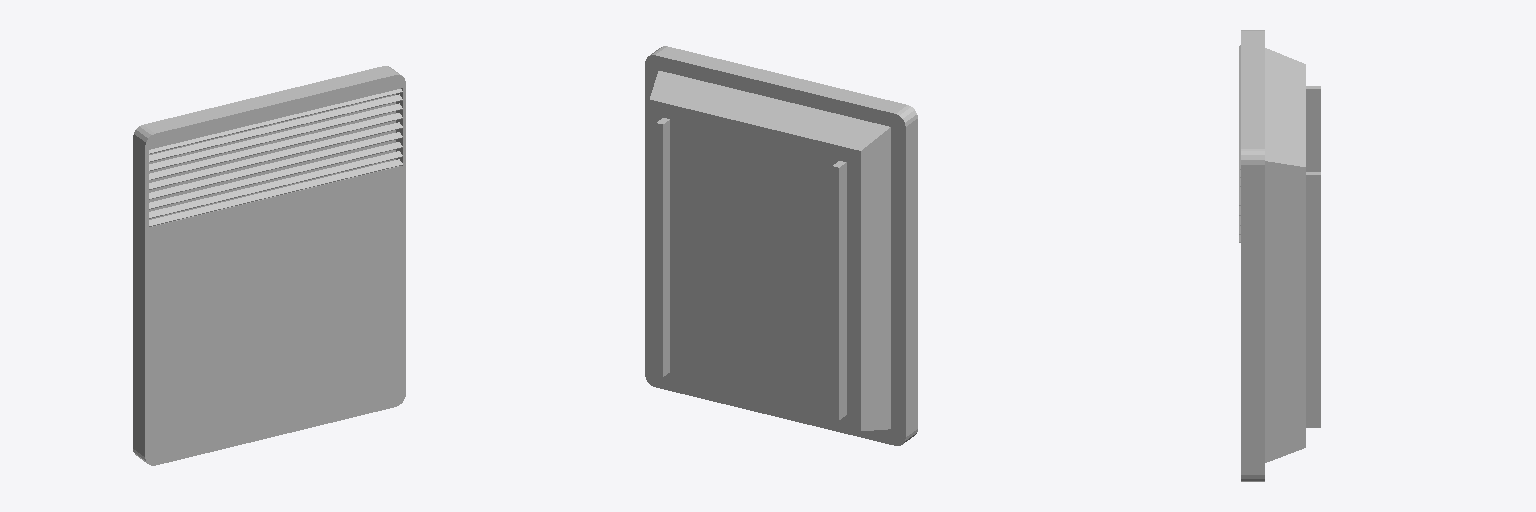
The model's file is electricRadiator.obj.
3 views of the same model, side by side, from view 1: azimuth 30°, elevation 25°; view 2: azimuth 150°, elevation 25°; view 3: azimuth 270°, elevation 25° (orthographic).
Parts seen in each view (by area): view 1: Corps, Ailette_3, Ailette_6, Ailette_8, Ailette, Ailette_1, Ailette_2, Ailette_4, Ailette_5, Ailette_7; view 2: Corps, Accroche, Accroche_1; view 3: Corps, Accroche_1, Accroche.
Boxes of the visible parts, box(x1,y1,x2,y2) form: Corps: box(133, 66, 405, 465); Ailette_3: box(149, 122, 402, 189); Ailette_6: box(149, 94, 402, 161); Ailette_8: box(149, 159, 402, 226); Ailette: box(149, 151, 402, 218); Ailette_1: box(149, 142, 402, 209); Ailette_2: box(149, 132, 402, 199); Ailette_4: box(149, 113, 402, 179); Ailette_5: box(149, 103, 402, 170); Ailette_7: box(149, 89, 402, 153); Corps: box(645, 46, 917, 445); Accroche: box(832, 161, 846, 419); Accroche_1: box(656, 118, 669, 376); Corps: box(1241, 30, 1305, 481); Accroche_1: box(1306, 172, 1320, 427); Accroche: box(1306, 86, 1320, 171).
Size of the model in its own units: 0.37 by 0.45 by 0.0998.